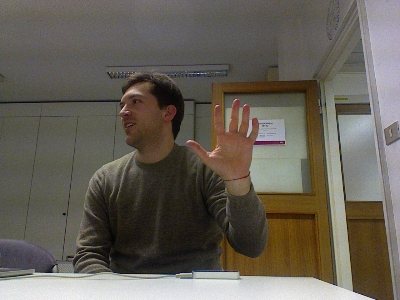布: (183, 96, 260, 180)
